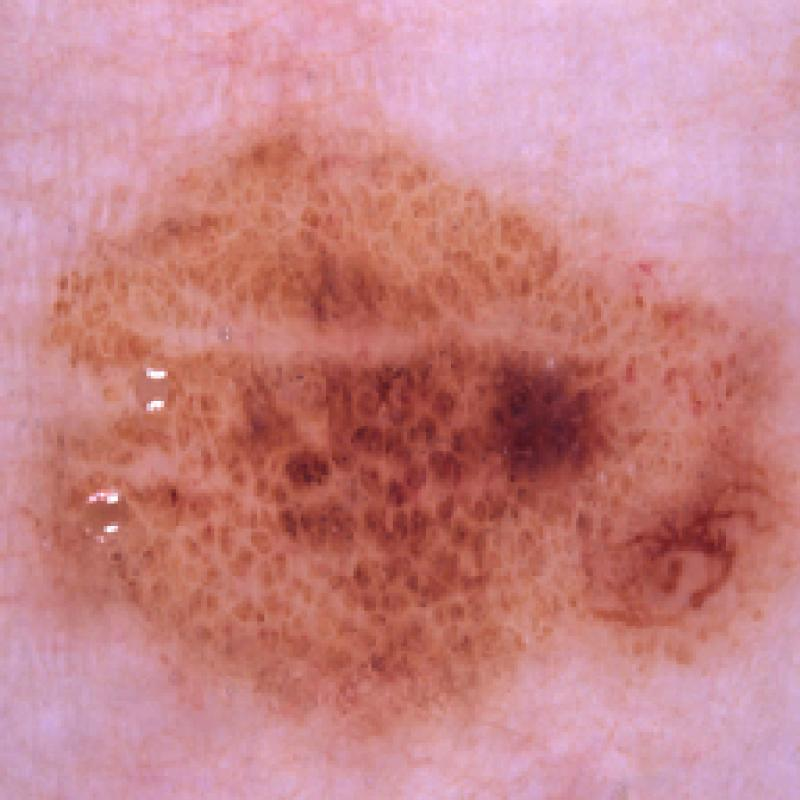benign: (33, 78, 786, 731)
